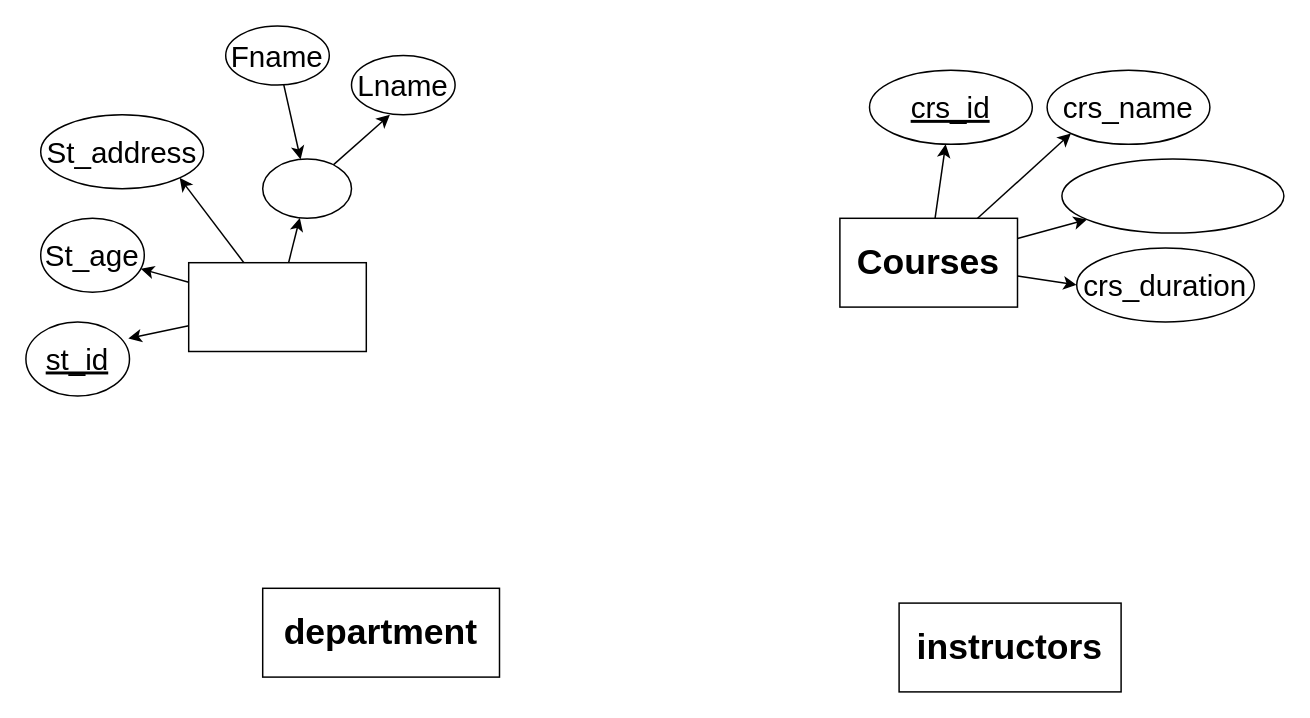
Image size: 1310x718. Some labels were removed from this diagram. The shapes that lost their labels are listed below. From the top down, each one's centre as x and y in pixels, then its label:
At pixel 306 188: "name".
At pixel 1172 195: "crs_description".
At pixel 276 306: "student".
